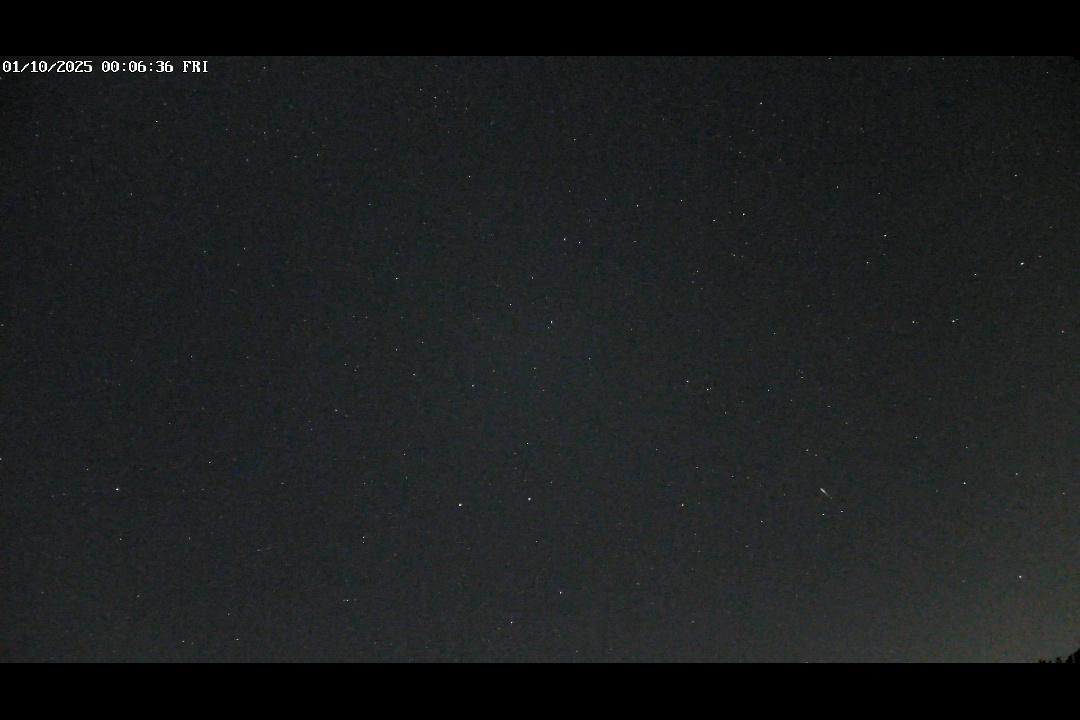meteorite: (817, 486, 840, 505)
